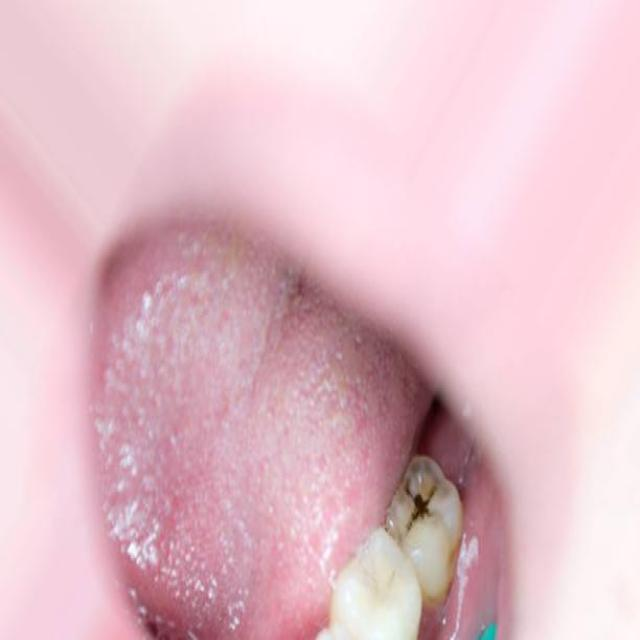caries: (388, 456, 458, 547)
